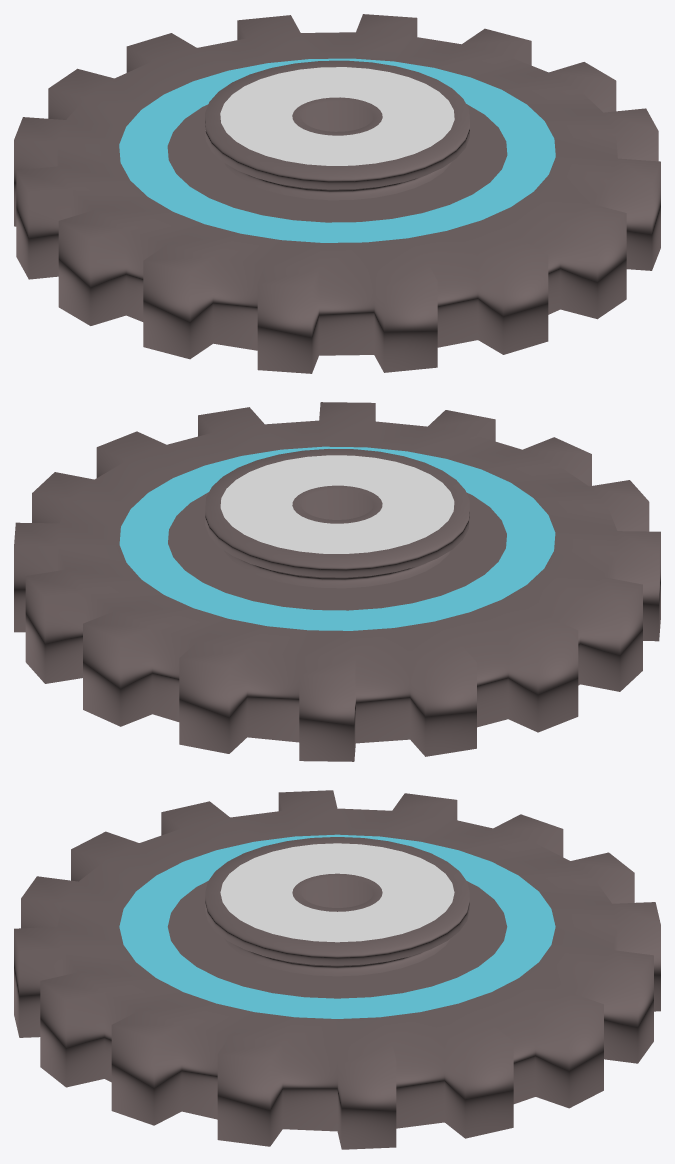
File: largeWheel.glb
The picture shows the model from 3 angles, top to bottom: view 1: azimuth 30°, elevation 25°; view 2: azimuth 150°, elevation 25°; view 3: azimuth 270°, elevation 25°; orthographic projection.
Visible parts, largest first — view 1: Cylinder.007; view 2: Cylinder.007; view 3: Cylinder.007.
Part boxes in pixels (<box>): Cylinder.007: <box>14,14,660,373</box>; Cylinder.007: <box>14,402,660,761</box>; Cylinder.007: <box>14,790,660,1149</box>.
Size of the model in its own units: 2.75 by 0.5644 by 2.75.
